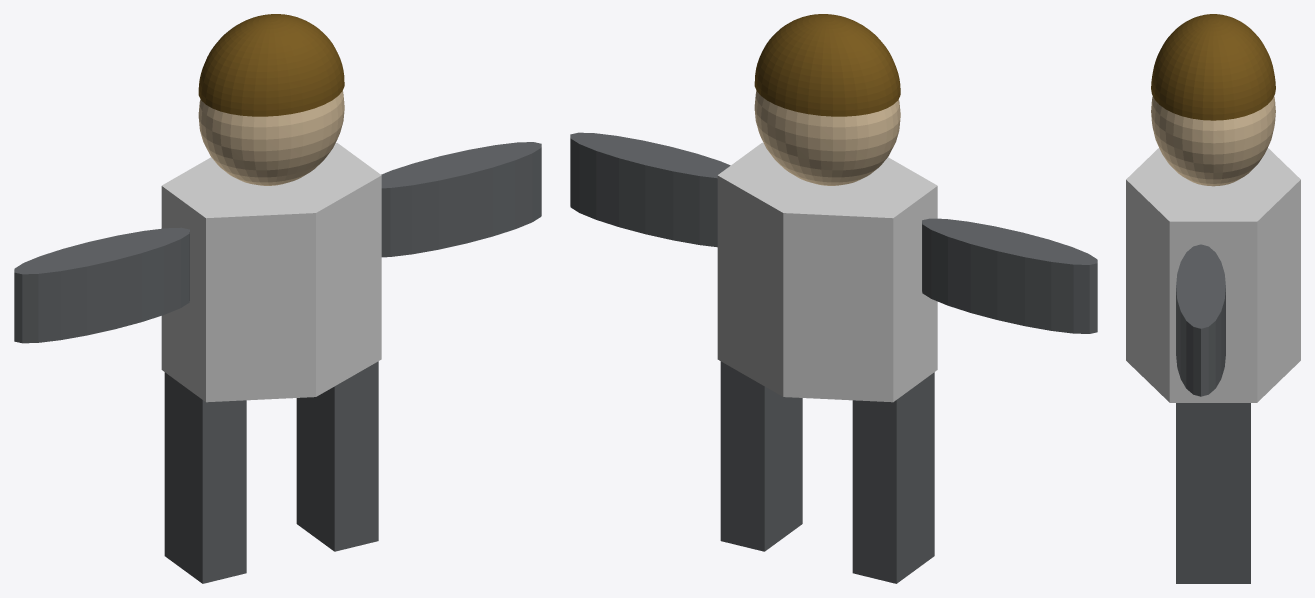
The model's file is Spectacular Waasa.glb.
The picture shows the model from 3 angles, left to right: view 1: azimuth 30°, elevation 25°; view 2: azimuth 150°, elevation 25°; view 3: azimuth 270°, elevation 25°; orthographic projection.
Visible parts, largest first — view 1: Mesh_Mesh_head_geo.001_lambert2SG.001; view 2: Mesh_Mesh_head_geo.001_lambert2SG.001; view 3: Mesh_Mesh_head_geo.001_lambert2SG.001.
Boxes of the visible parts, x1,y1,x2,y2 form: Mesh_Mesh_head_geo.001_lambert2SG.001: (14, 14, 541, 583); Mesh_Mesh_head_geo.001_lambert2SG.001: (570, 14, 1097, 583); Mesh_Mesh_head_geo.001_lambert2SG.001: (1126, 14, 1300, 583).
Size of the model in its own units: 24 by 23 by 7.
